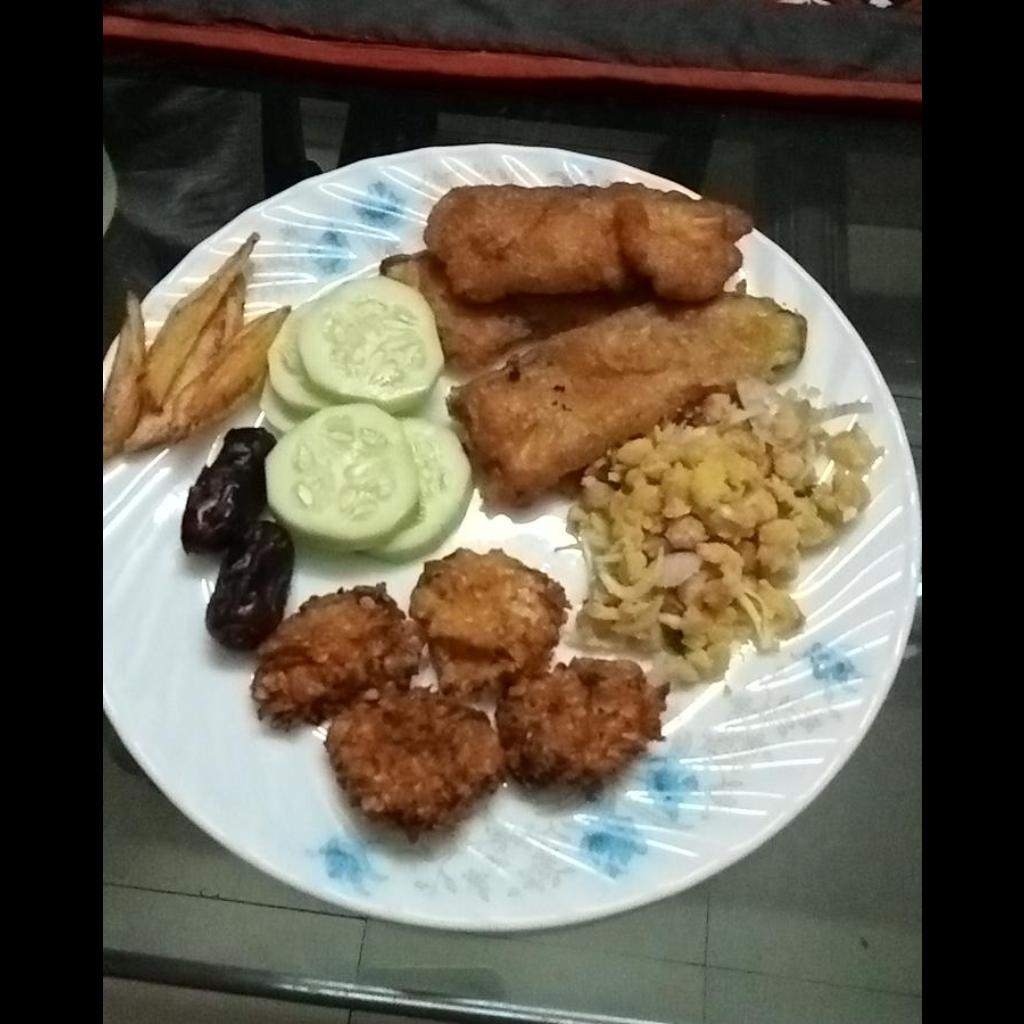beguni: (385, 184, 807, 507)
chola: (571, 389, 881, 684)
cucumber: (264, 287, 468, 561)
dates: (177, 429, 293, 645)
peyaju: (251, 559, 665, 843)
potato: (102, 233, 285, 460)
